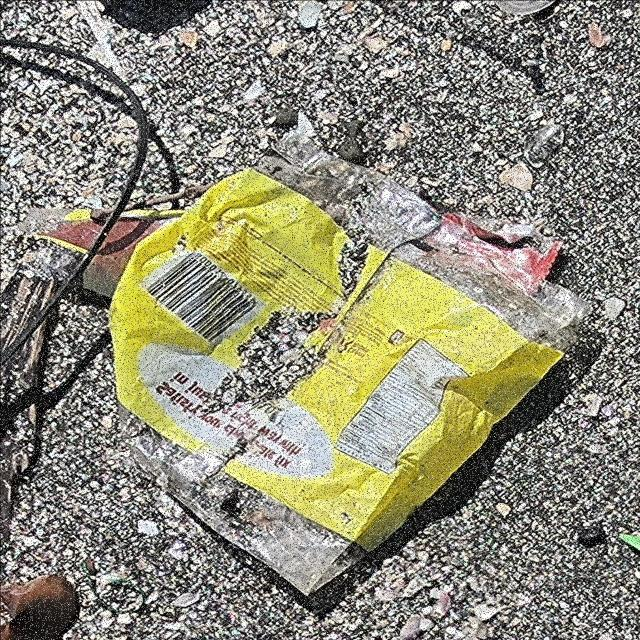plastic_waste: (106, 135, 595, 600)
